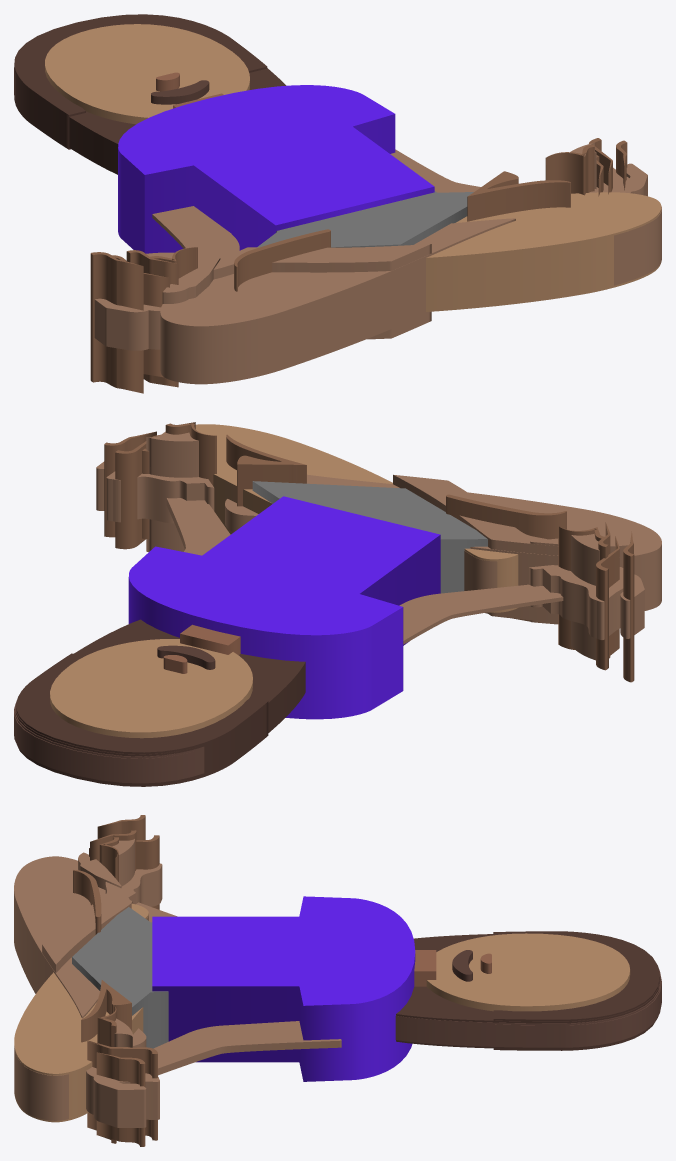
The model's file is emoji_u1f9d8_1f3fd_200d_2640.glb.
3 views of the same model, one above another, from view 1: azimuth 30°, elevation 25°; view 2: azimuth 150°, elevation 25°; view 3: azimuth 270°, elevation 25° (orthographic). The views are drawn at different scales.
Parts seen in each view (by area): view 1: emoji_u1f9d8_1f3fd_200d_2640; view 2: emoji_u1f9d8_1f3fd_200d_2640; view 3: emoji_u1f9d8_1f3fd_200d_2640.
Boxes of the visible parts, x1=… form: emoji_u1f9d8_1f3fd_200d_2640: x1=14, y1=14, x2=661, y2=393; emoji_u1f9d8_1f3fd_200d_2640: x1=14, y1=422, x2=661, y2=786; emoji_u1f9d8_1f3fd_200d_2640: x1=14, y1=815, x2=661, y2=1146.
Size of the model in its own units: 0.0294 by 0.0068 by 0.034.
